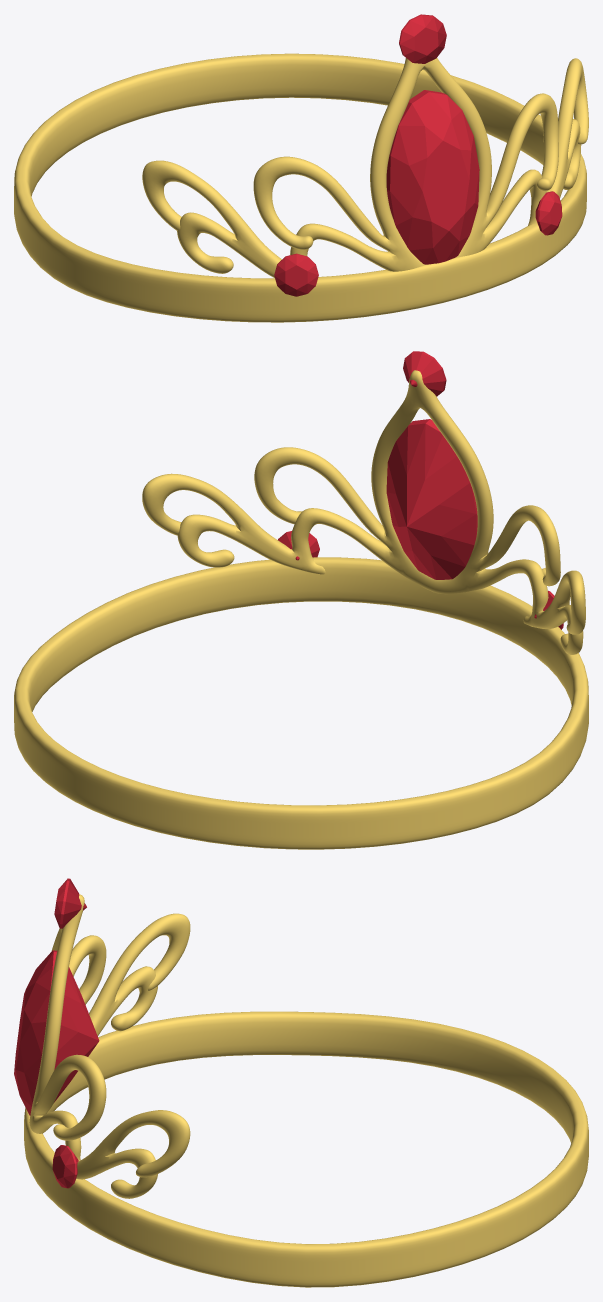
Rendered from Tiara.gltf.
The picture shows the model from 3 angles, top to bottom: view 1: azimuth 30°, elevation 25°; view 2: azimuth 150°, elevation 25°; view 3: azimuth 270°, elevation 25°; orthographic projection.
Visible parts, largest first — view 1: hat9-PBR, hat9-PBR.1; view 2: hat9-PBR, hat9-PBR.1; view 3: hat9-PBR, hat9-PBR.1.
Part boxes in pixels (box(x1,y1,x2,y2)): hat9-PBR: box(14, 53, 588, 322); hat9-PBR.1: box(274, 14, 562, 296); hat9-PBR: box(14, 370, 588, 849); hat9-PBR.1: box(278, 351, 563, 629); hat9-PBR: box(24, 894, 588, 1287); hat9-PBR.1: box(14, 878, 99, 1188).
Bounding box in the file's own units: 5.84 × 3.3 × 5.95.
